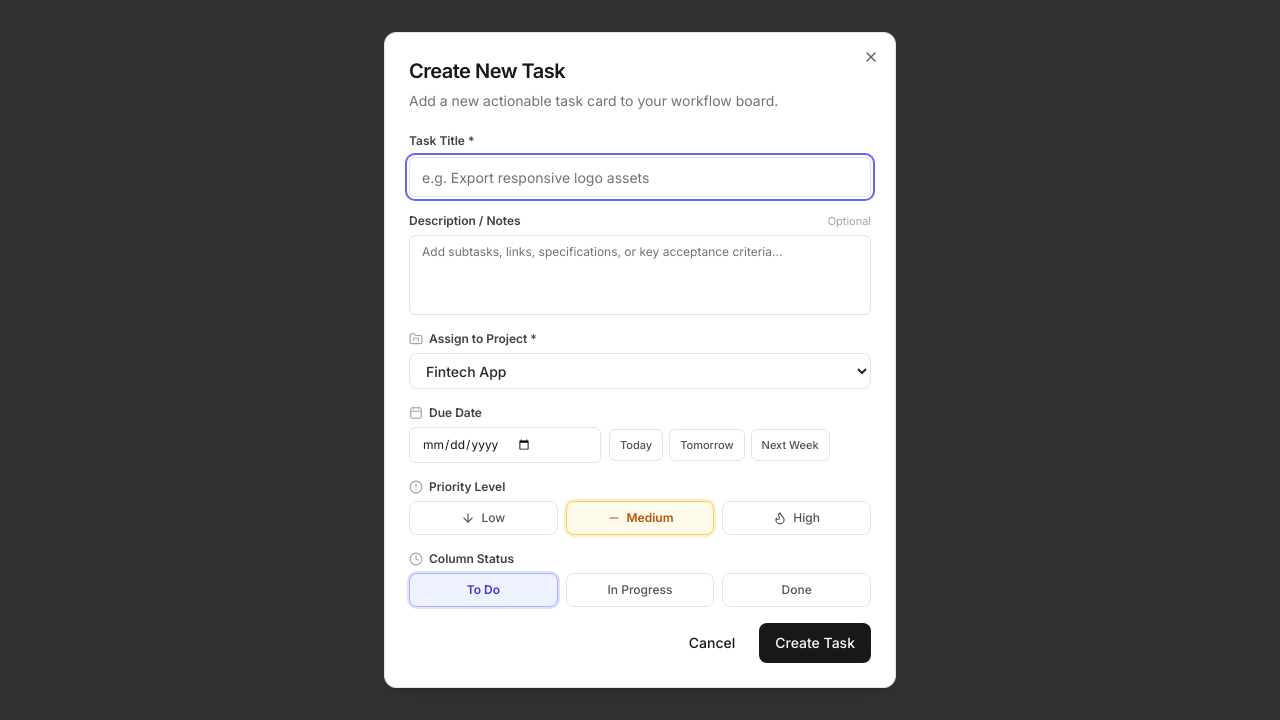
Test: CreateTaskModal › populates due date input when quick preset buttons are clicked
Click the button "Today" at (636, 445), box [609,429,663,461]
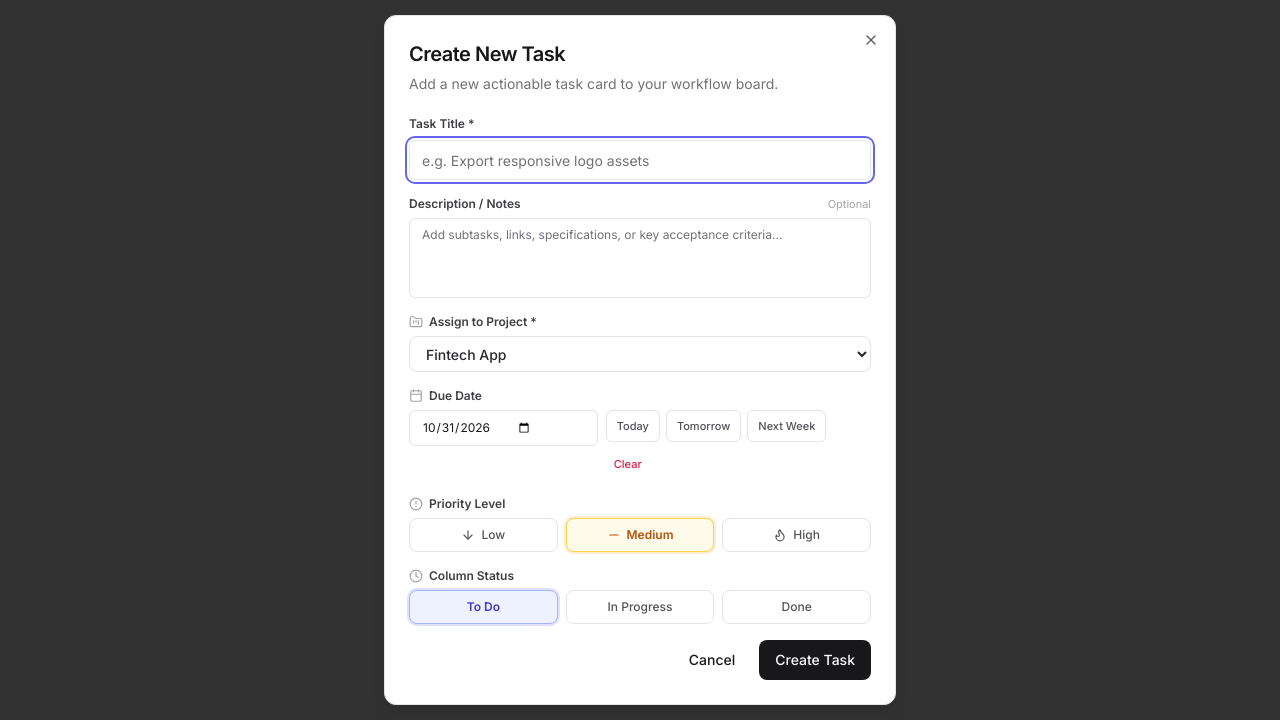
Expected: the date field labelled "Due Date" is not empty, [409,410,598,446]
